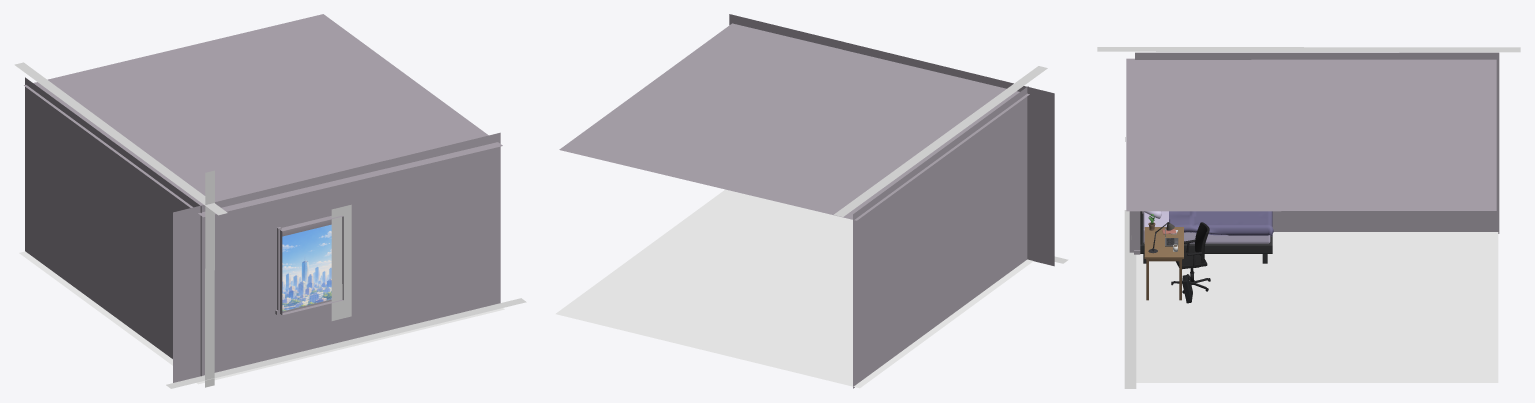
Rendered from room_corner.glb.
The picture shows the model from 3 angles, left to right: view 1: azimuth 30°, elevation 25°; view 2: azimuth 150°, elevation 25°; view 3: azimuth 270°, elevation 25°; orthographic projection. The views are drawn at different scales.
Parts seen in each view (by area): view 1: Room, WindowView, Плоскость4, Плоскость, Плоскость3, Плоскость2, WindowFrame; view 2: Room, Плоскость2; view 3: Room, Bed, Плоскость2, Плоскость, Table, Chair.
Boxes of the visible parts, x1,y1,x2,y2 form: Room: [19, 14, 504, 384]; WindowView: [282, 224, 331, 311]; Плоскость4: [331, 204, 351, 320]; Плоскость: [166, 298, 526, 388]; Плоскость3: [205, 170, 214, 387]; Плоскость2: [14, 62, 227, 215]; WindowFrame: [275, 219, 331, 314]; Room: [556, 14, 1054, 388]; Плоскость2: [834, 66, 1047, 216]; Room: [1126, 52, 1499, 382]; Bed: [1140, 211, 1273, 263]; Плоскость2: [1097, 47, 1520, 52]; Плоскость: [1124, 210, 1136, 388]; Table: [1144, 227, 1183, 300]; Chair: [1171, 222, 1210, 293].
Size of the model in its own units: 6.67 by 3.84 by 6.67.
Materials: 52 (2 with a texture image).
